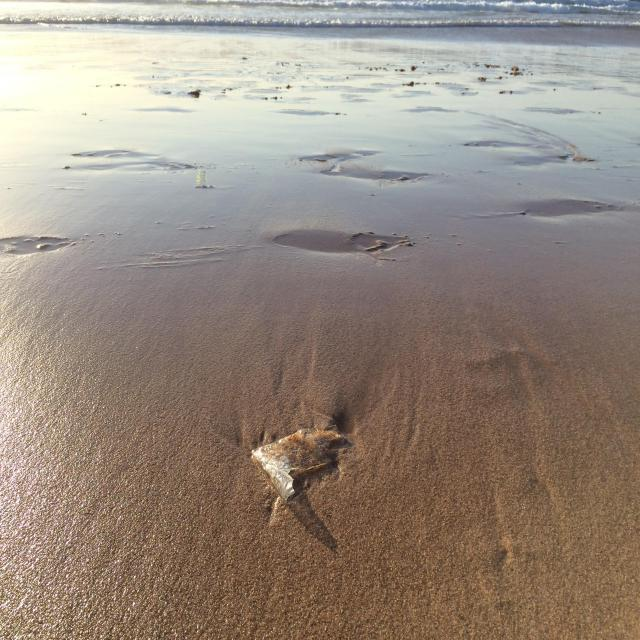Plastic film: (252, 425, 345, 504)
